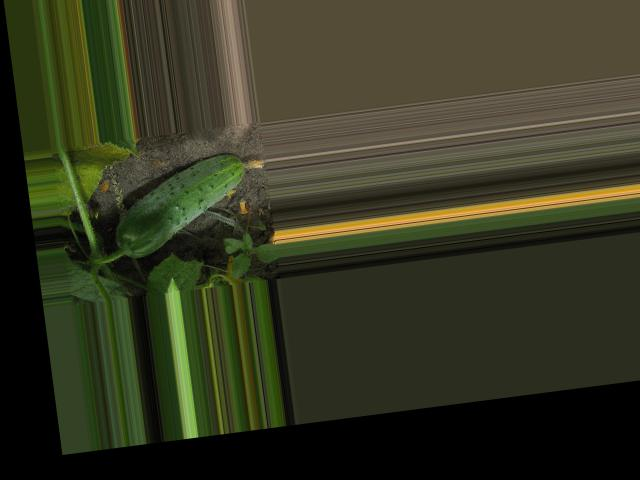cucumber: (107, 148, 275, 260)
